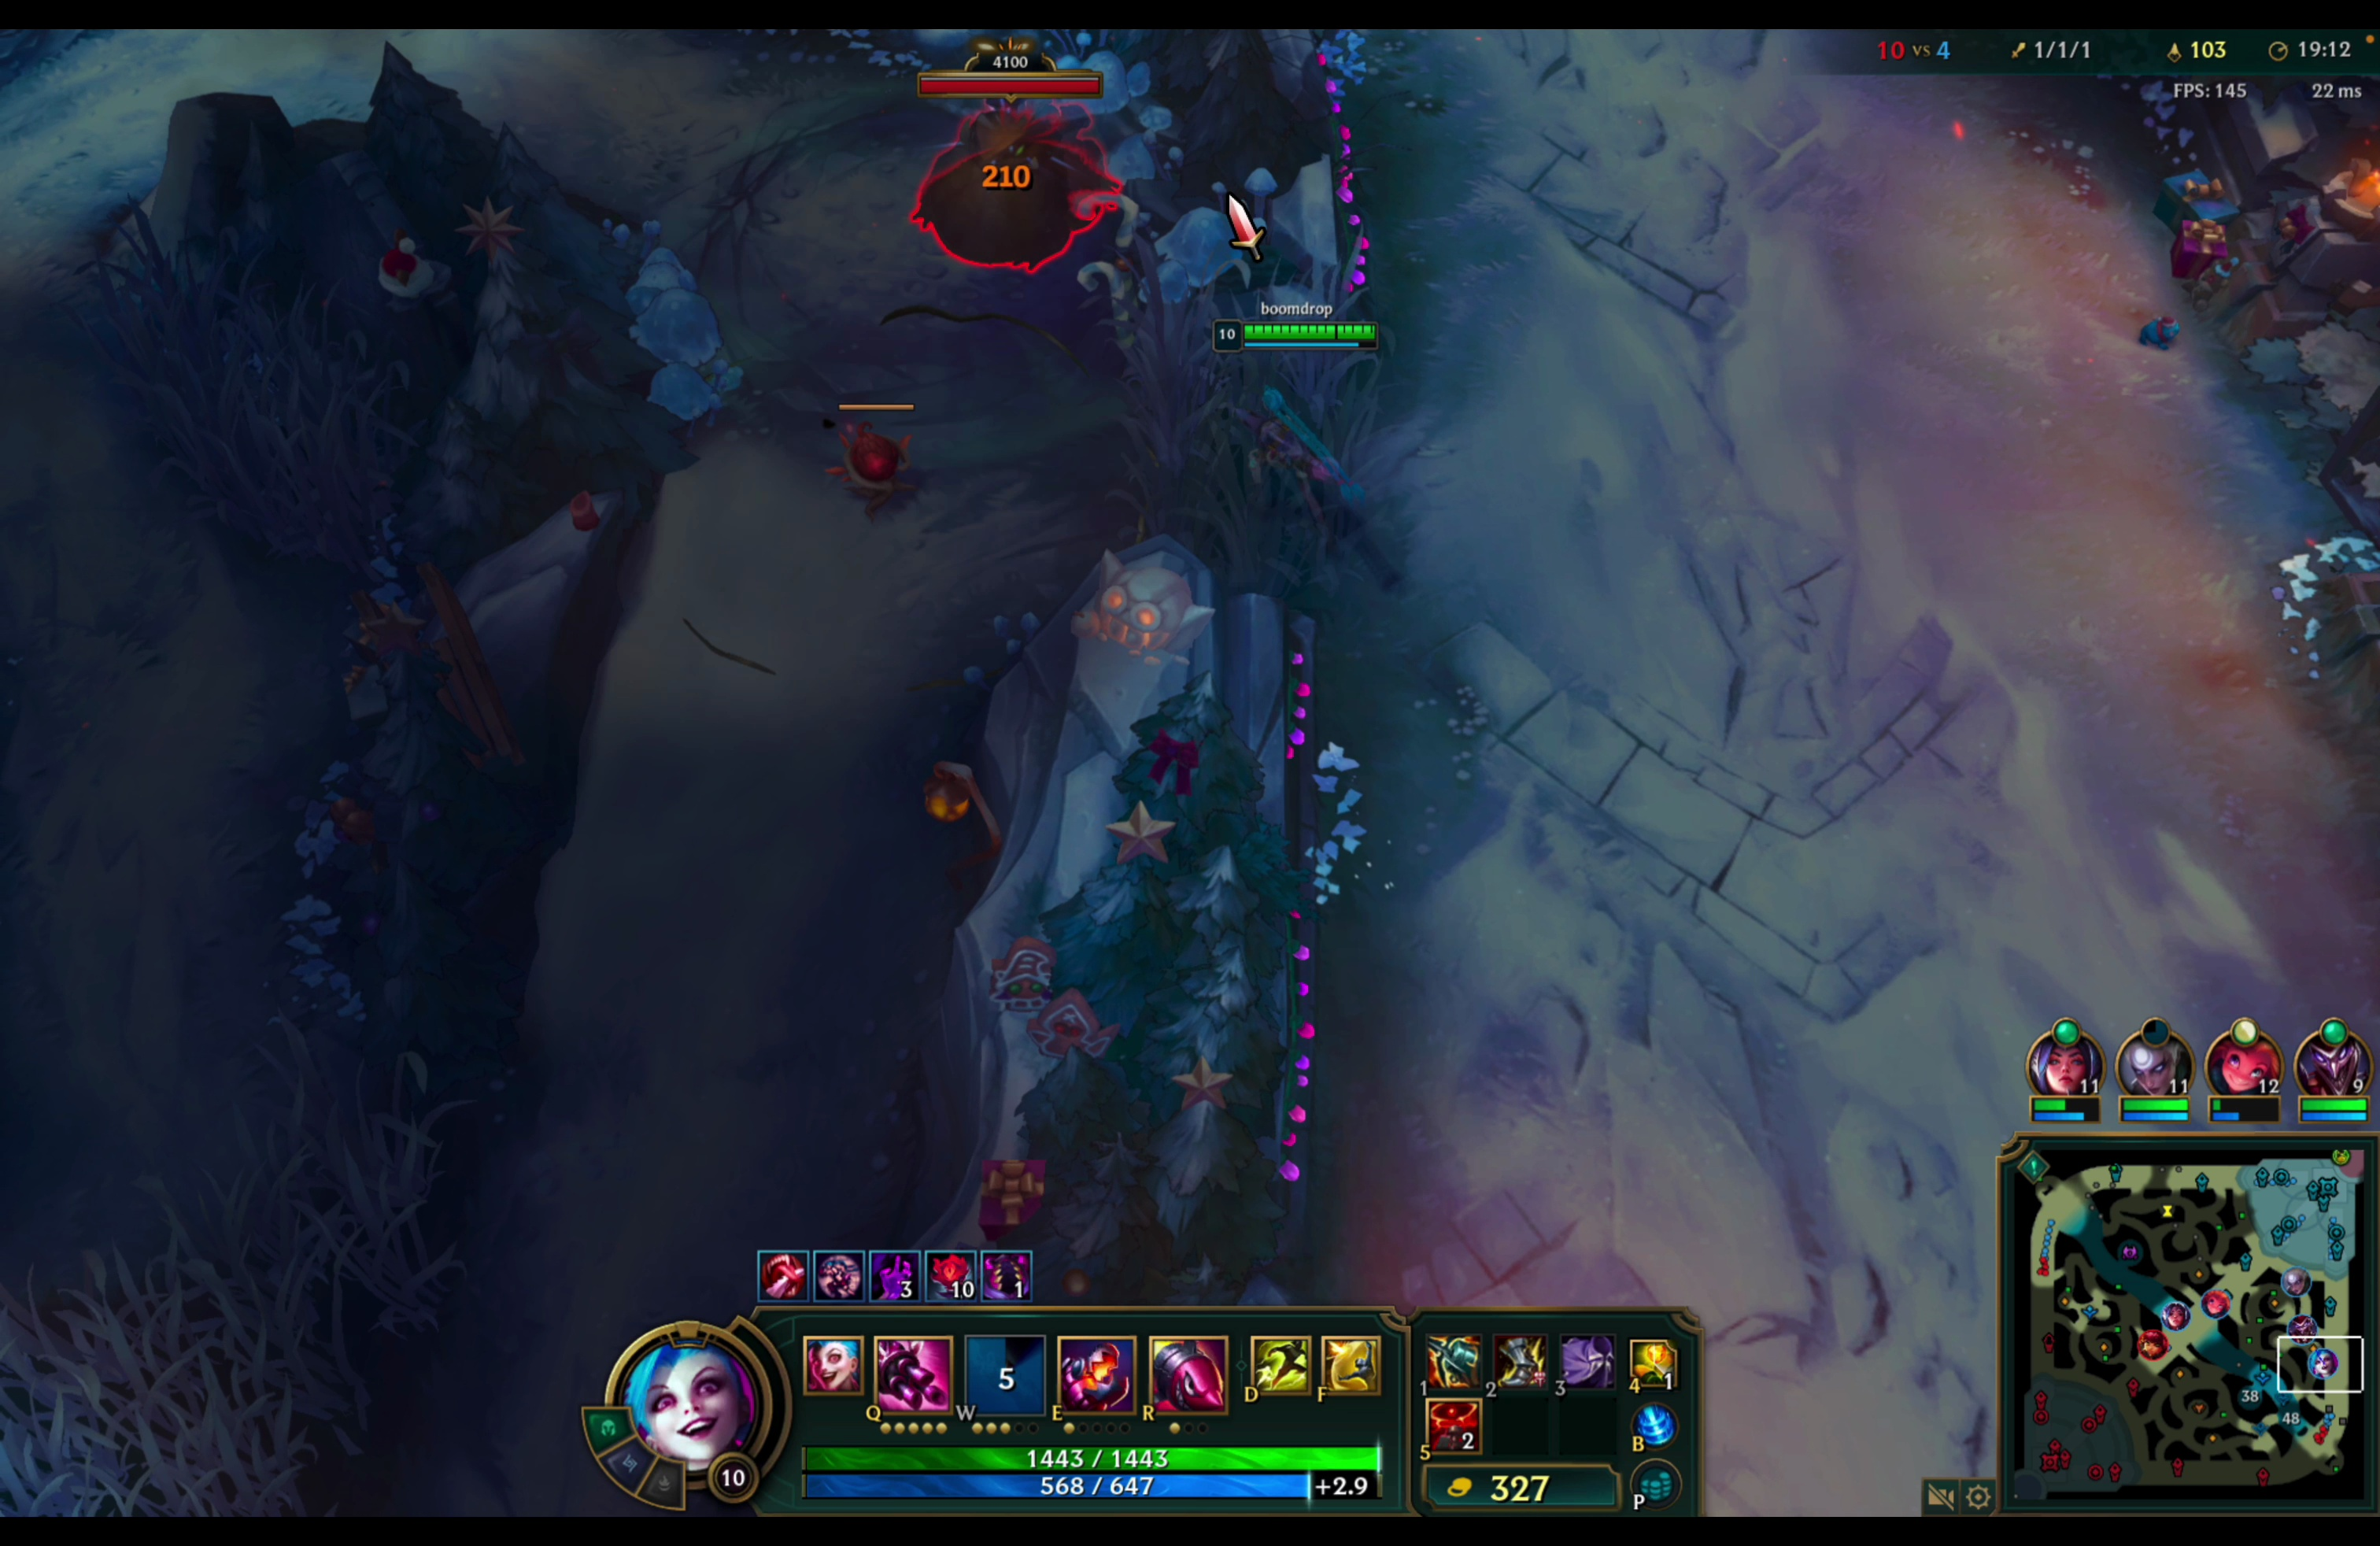JINX_W_IMPACT: (852, 33, 1148, 293)
